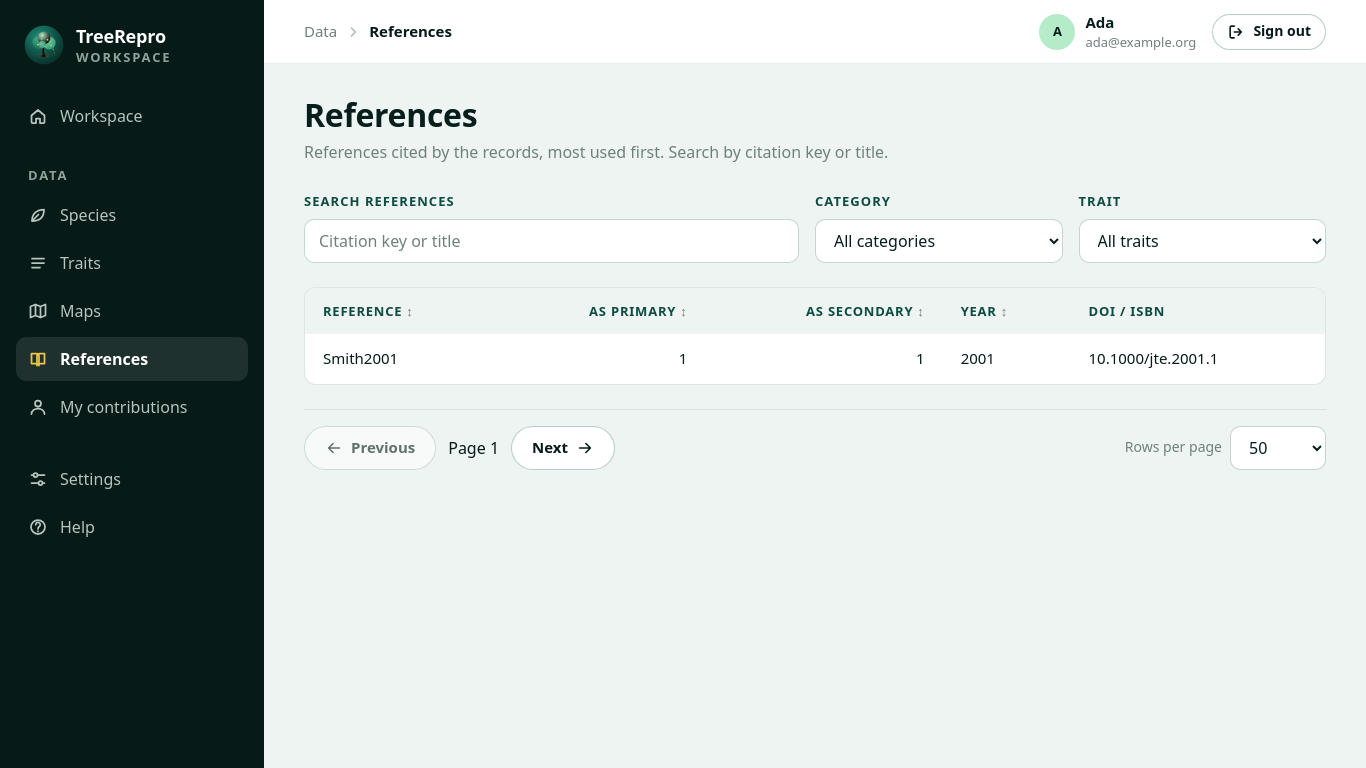
it: RFC-13 R2, RFC-61 R4 ReferencesPage › steps to the next page with the cursor and back to the first
Expected: the heading "References" is shown, [304, 93, 477, 136]
Expected: the link "Smith2001" is shown, [323, 348, 398, 370]
Click the button "Next" at [563, 448], box [511, 426, 615, 470]
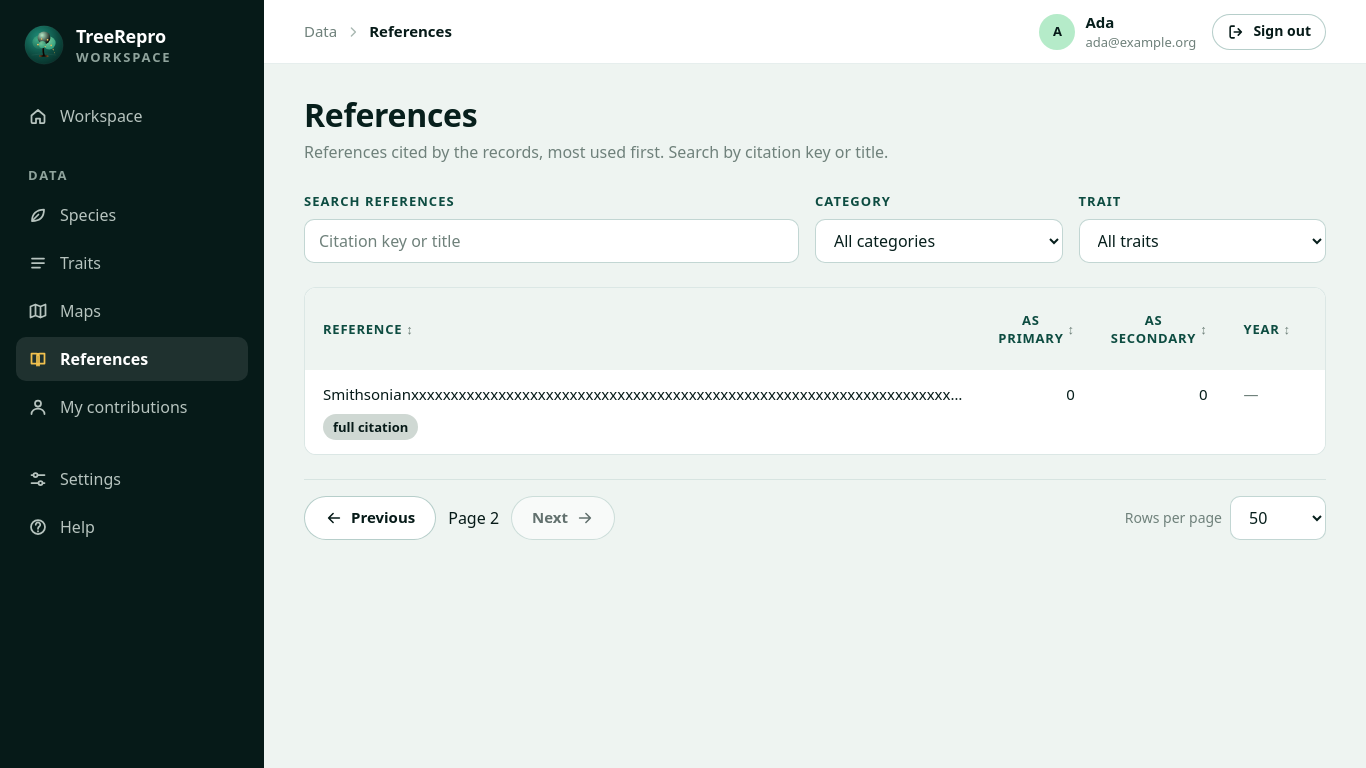
Result: the text "Page 2" is shown at [448, 506, 499, 530]
Result: the button "Next" is disabled at [511, 496, 615, 540]
Click the button "Previous" at [370, 518], box [304, 496, 436, 540]
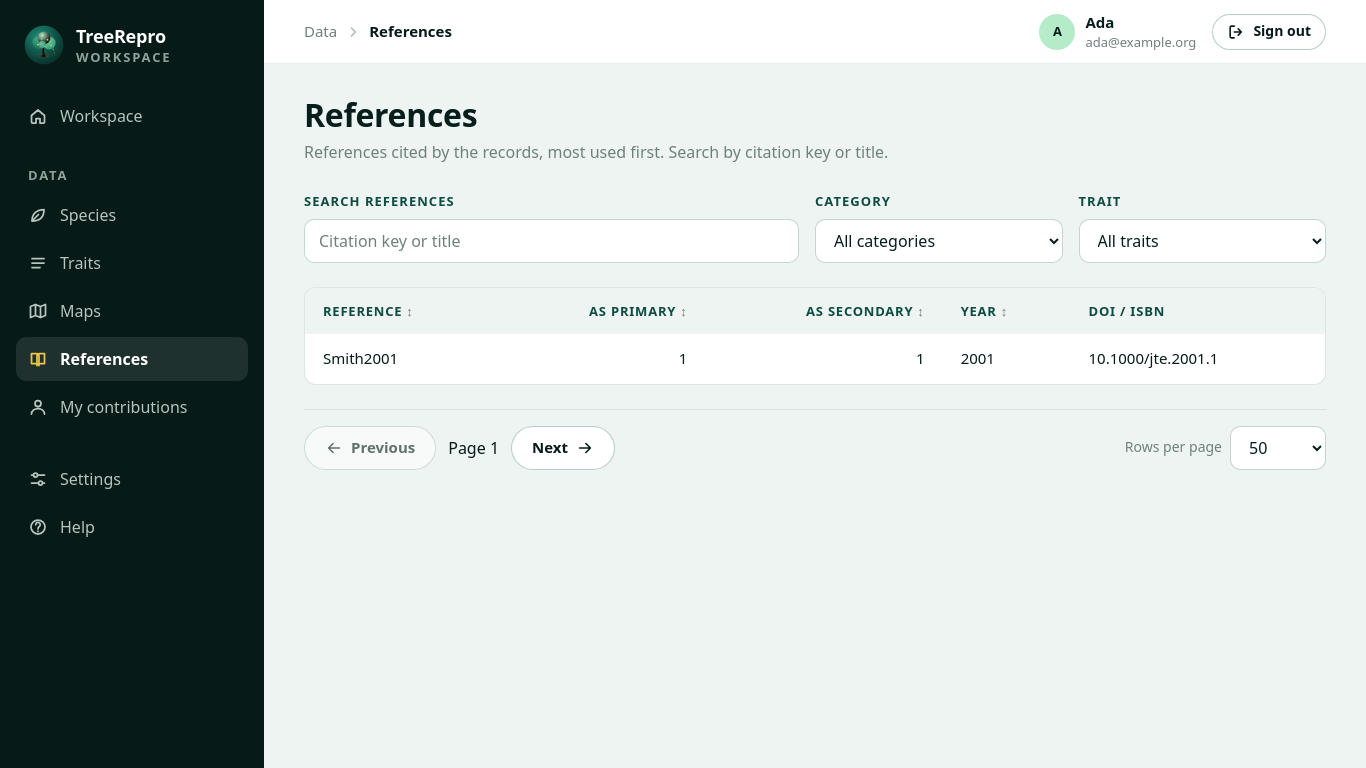
Result: the link "Smith2001" is shown at [323, 348, 398, 370]
Result: the text "Page 1" is shown at [448, 436, 499, 460]
